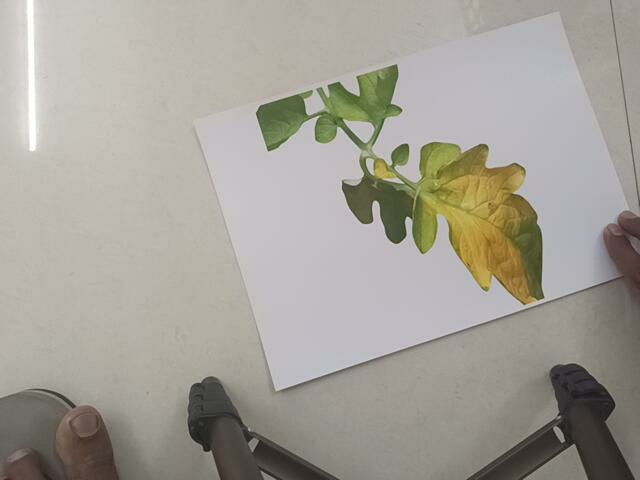Tomamto_Yellow_Disease: (256, 71, 573, 303)
